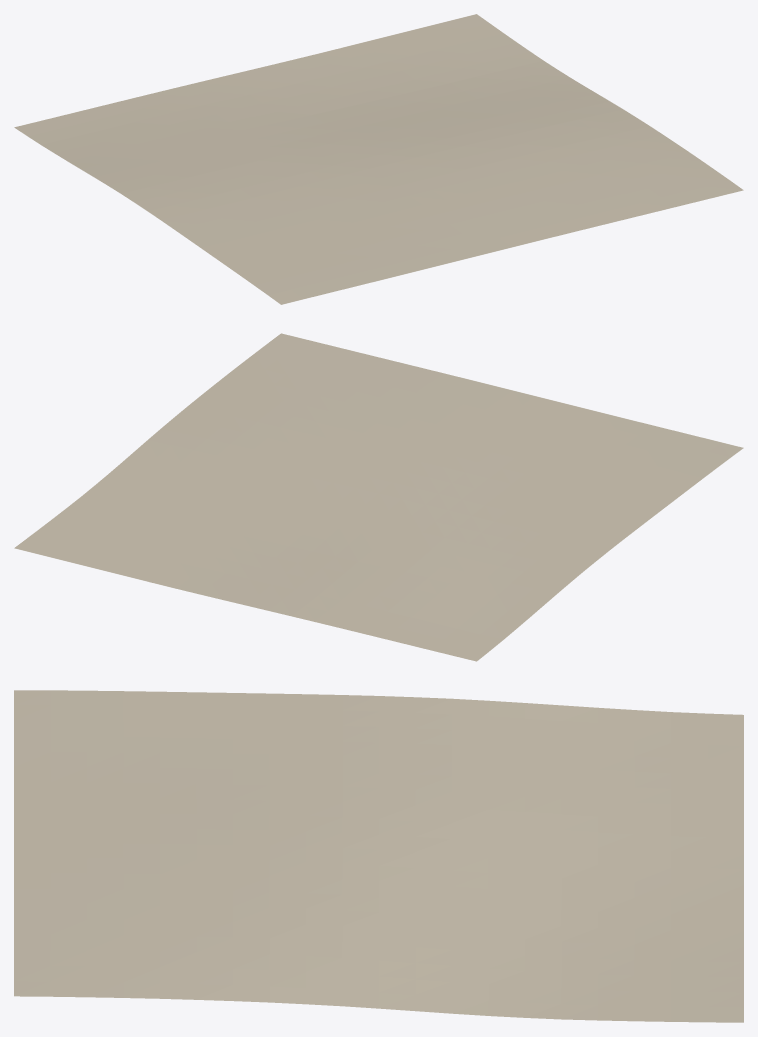
File: bolak_-14_-14.glb
The picture shows the model from 3 angles, top to bottom: view 1: azimuth 30°, elevation 25°; view 2: azimuth 150°, elevation 25°; view 3: azimuth 270°, elevation 25°; orthographic projection. The views are drawn at different scales.
Parts seen in each view (by area): view 1: Yer_Tuproq-col; view 2: Yer_Tuproq-col; view 3: Yer_Tuproq-col.
Part boxes in pixels (<box>): Yer_Tuproq-col: <box>14,14,743,304</box>; Yer_Tuproq-col: <box>14,333,743,661</box>; Yer_Tuproq-col: <box>14,690,743,1022</box>.
Bounding box in the file's own units: 400 × 16.7 × 400.
